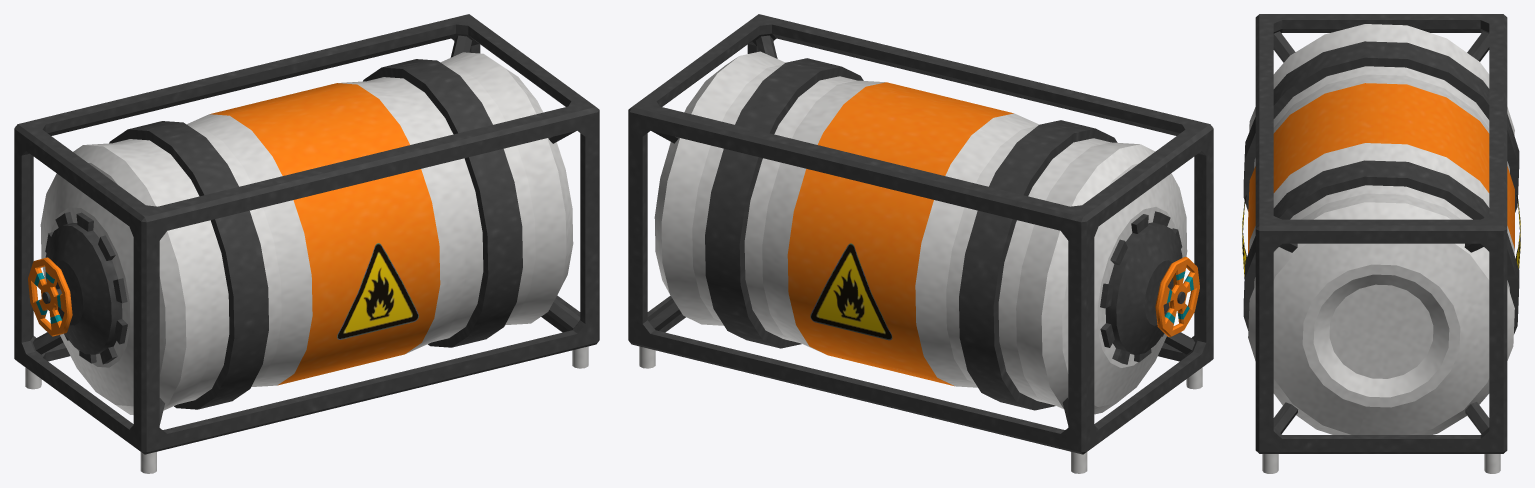
File: Barrel_2_LOD0.fbx
3 renders of one model, left to right at view 1: azimuth 30°, elevation 25°; view 2: azimuth 150°, elevation 25°; view 3: azimuth 270°, elevation 25°, orthographic. The views are drawn at different scales.
Visible parts, largest first — view 1: Barrel_2_LOD0; view 2: Barrel_2_LOD0; view 3: Barrel_2_LOD0.
Part boxes in pixels (x1,y1,x2,y2): Barrel_2_LOD0: (14,14,599,473); Barrel_2_LOD0: (628,14,1213,473); Barrel_2_LOD0: (1242,14,1520,473).
Size of the model in its own units: 620 by 327 by 317.
